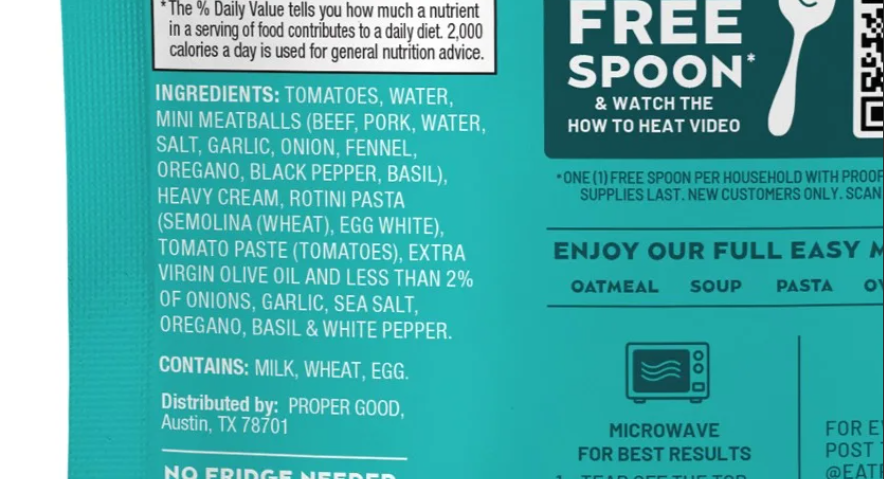l: (144, 77, 493, 350)
